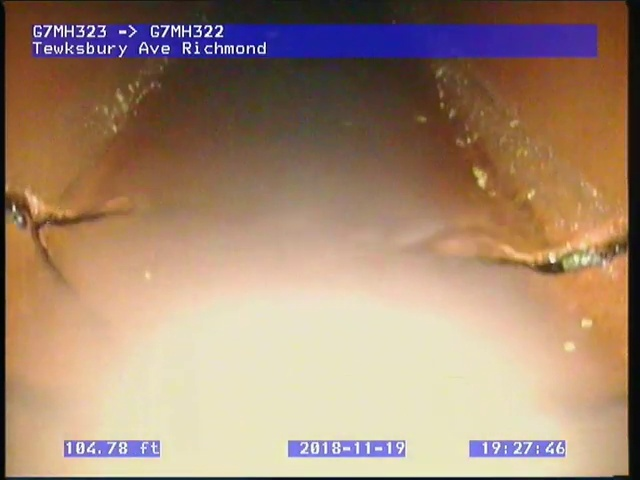crack: (7, 182, 134, 304), (491, 217, 628, 280)
